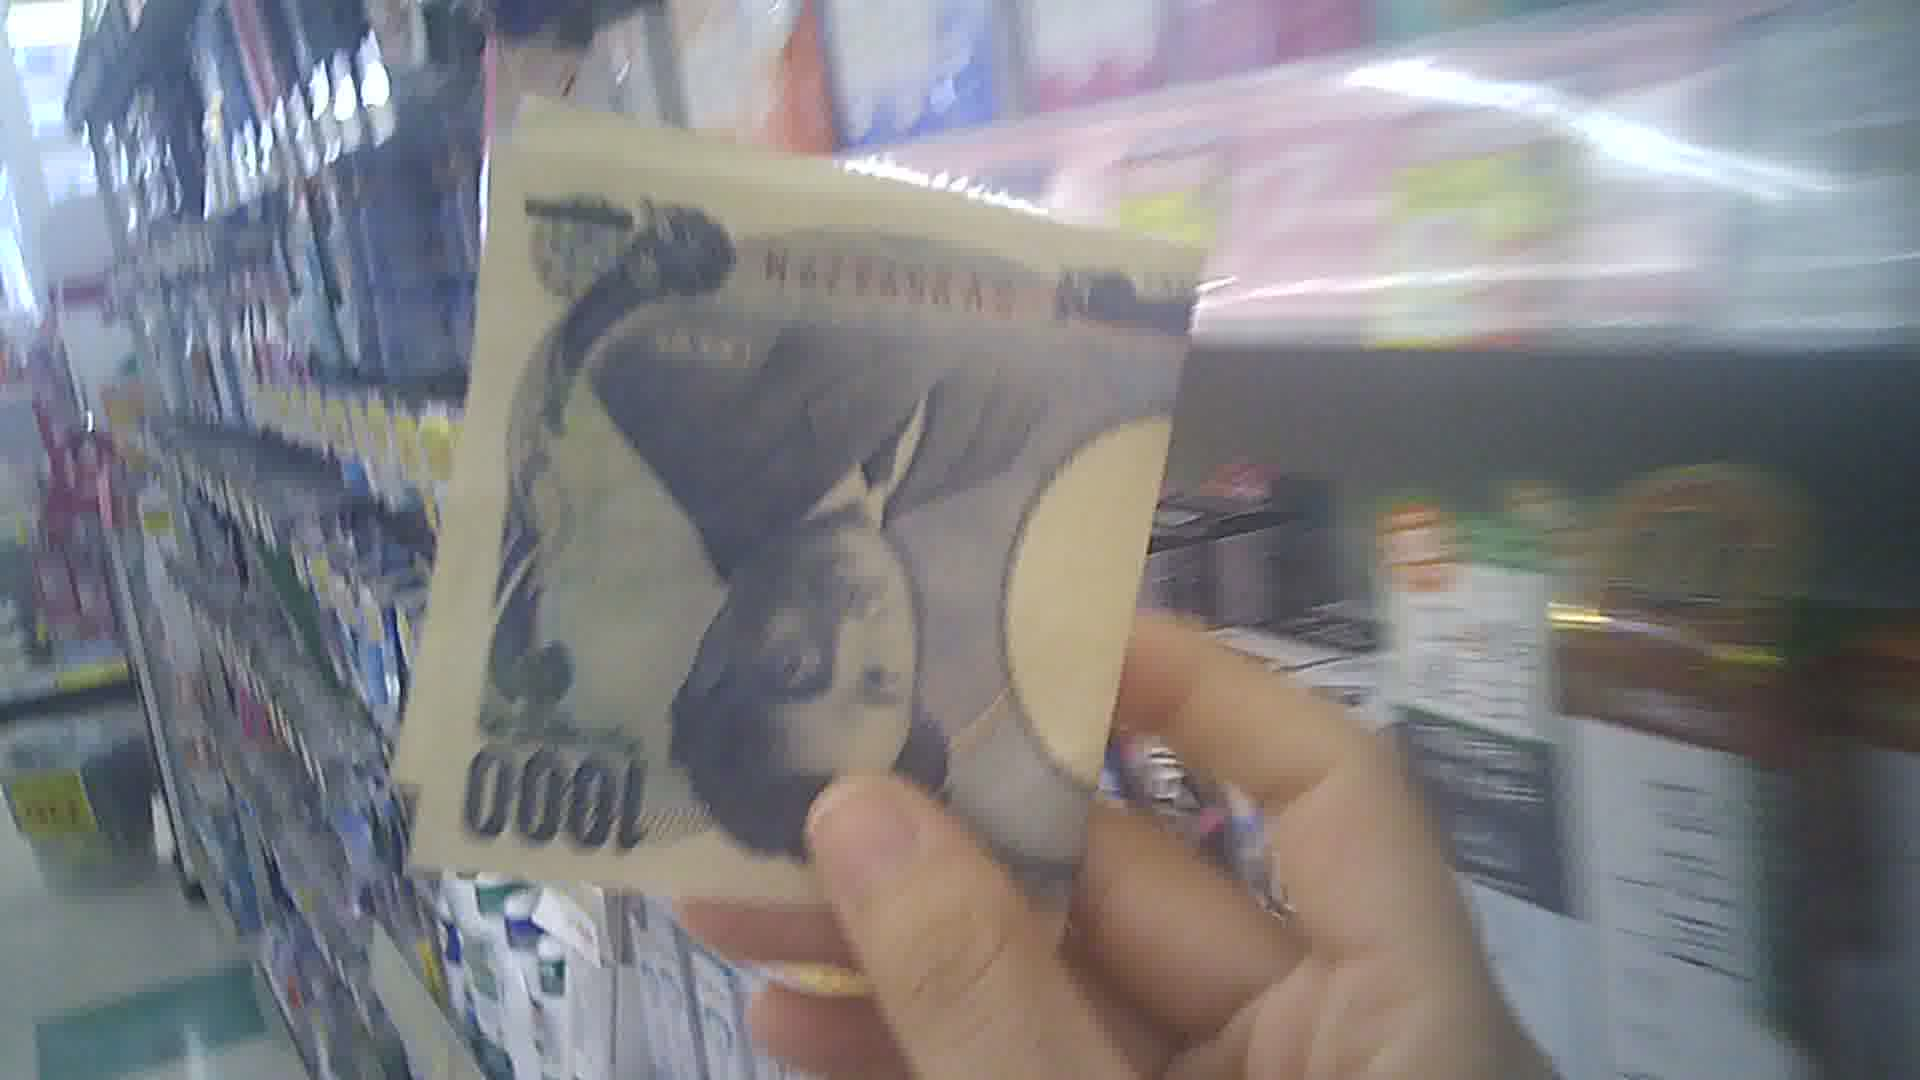1,000 Yen: (373, 73, 1211, 952)
